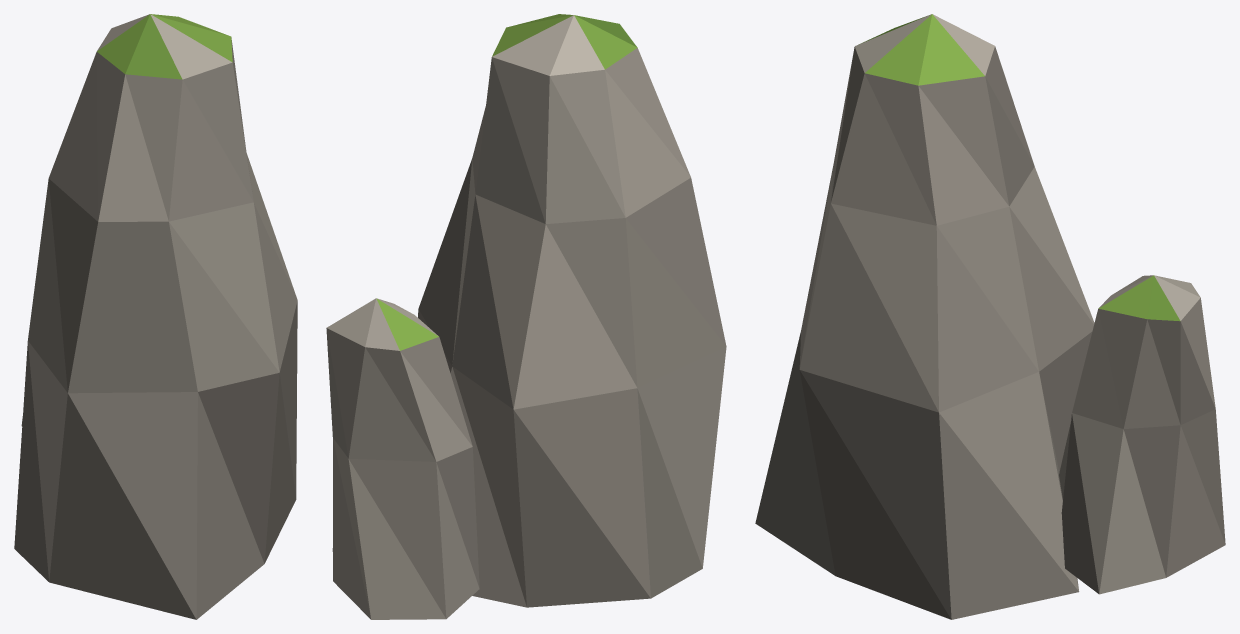
The model's file is Rock_Small.obj.
The picture shows the model from 3 angles, left to right: view 1: azimuth 30°, elevation 25°; view 2: azimuth 150°, elevation 25°; view 3: azimuth 270°, elevation 25°; orthographic projection.
Parts seen in each view (by area): view 1: Rock_Small; view 2: Rock_Small; view 3: Rock_Small.
Boxes of the visible parts, left/top/right/bottom form: Rock_Small: left=14, top=14, right=297, bottom=619; Rock_Small: left=326, top=14, right=726, bottom=619; Rock_Small: left=755, top=14, right=1225, bottom=619.
Bounding box in the file's own units: 0.4743 × 0.883 × 0.71.
1 material, 1 textured.
